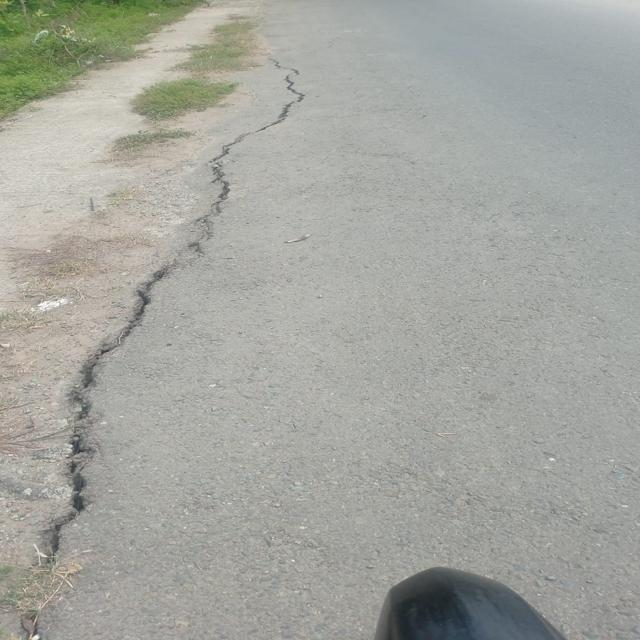Memanjang: (24, 49, 317, 567)
